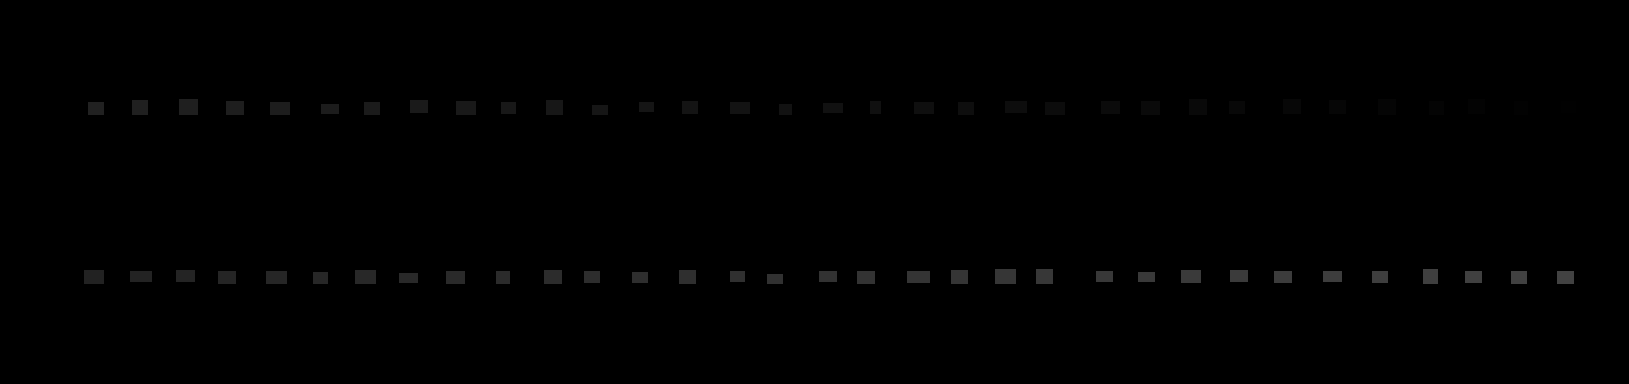light: (179, 99, 198, 115), (995, 269, 1016, 284), (1378, 99, 1396, 115), (1189, 99, 1207, 115), (355, 270, 376, 284), (1141, 101, 1160, 115), (456, 101, 476, 115), (84, 270, 104, 284), (1005, 101, 1027, 113), (907, 271, 930, 283), (266, 271, 287, 284), (1283, 99, 1301, 114), (1036, 269, 1053, 284), (1045, 102, 1065, 115), (270, 102, 290, 115), (446, 271, 465, 284), (1181, 270, 1201, 283), (1468, 99, 1485, 114), (546, 100, 563, 115), (1329, 100, 1346, 114), (226, 101, 244, 115), (544, 270, 562, 284), (951, 270, 968, 284), (1101, 101, 1120, 114), (130, 271, 152, 282), (914, 102, 934, 114), (730, 102, 750, 114), (176, 270, 195, 282), (132, 100, 148, 115), (679, 270, 696, 284), (410, 100, 428, 113), (218, 271, 236, 284), (857, 271, 875, 284), (1274, 271, 1292, 283), (1428, 101, 1444, 115), (1423, 269, 1438, 284), (1323, 271, 1342, 282), (958, 102, 974, 115), (682, 101, 698, 114), (364, 102, 380, 115), (1511, 271, 1527, 284), (1557, 271, 1574, 284), (1230, 270, 1248, 282), (1465, 271, 1483, 283), (819, 271, 837, 282), (1514, 101, 1528, 115), (1229, 101, 1245, 114), (88, 102, 104, 115), (584, 271, 600, 283), (823, 103, 843, 113), (496, 271, 510, 284), (501, 102, 516, 114), (313, 272, 328, 284), (399, 273, 418, 283), (1372, 271, 1388, 283), (632, 272, 648, 283), (1096, 271, 1113, 282), (321, 104, 339, 114), (1138, 272, 1155, 282), (1561, 101, 1576, 113), (767, 274, 783, 284), (730, 271, 745, 282), (639, 102, 655, 112), (592, 105, 608, 115), (870, 101, 881, 114), (779, 104, 792, 115)
